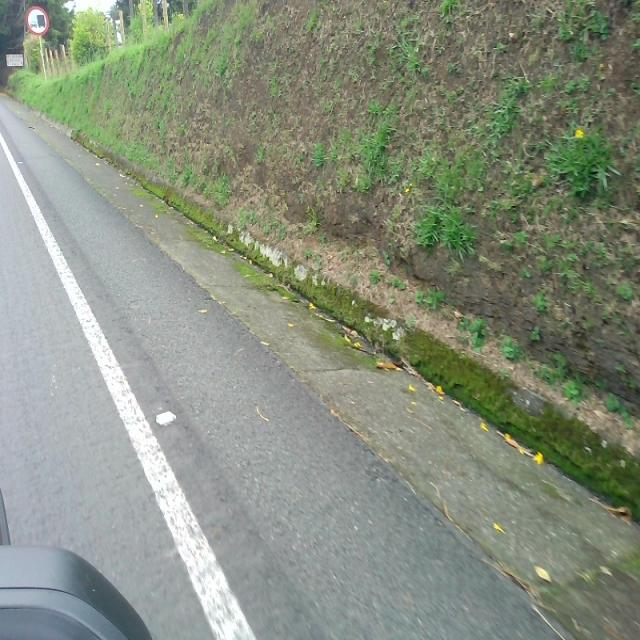DITCH: (43, 1, 638, 638), (65, 1, 638, 638), (2, 92, 638, 638)
